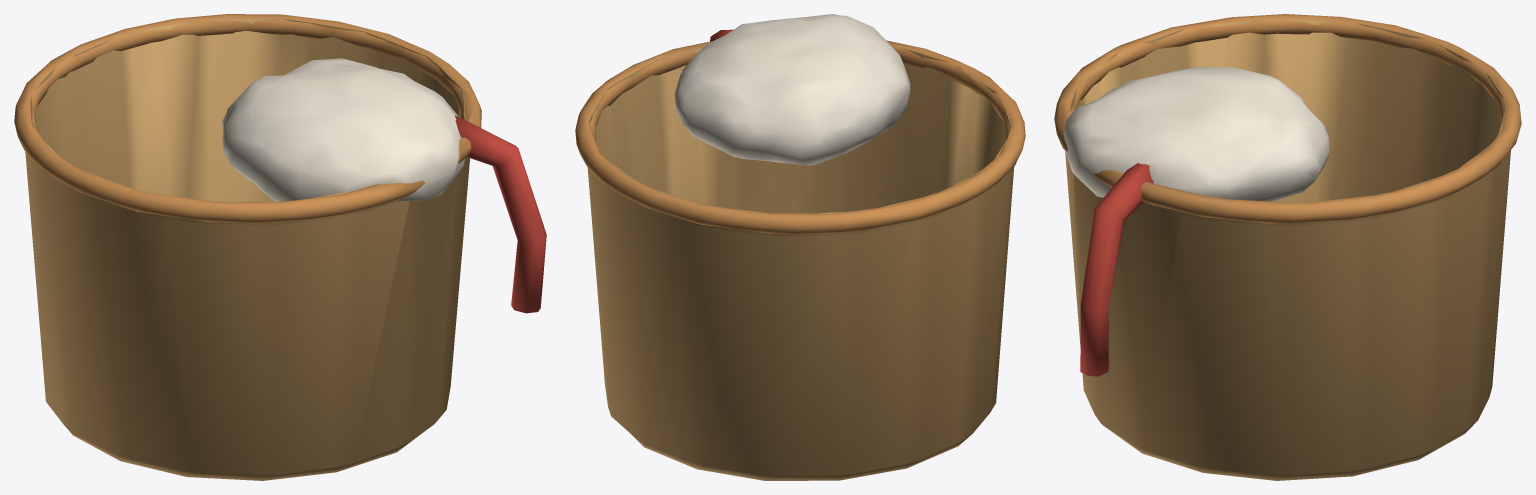
Rendered from den_laundry_basket_lod1.glb.
The picture shows the model from 3 angles, left to right: view 1: azimuth 30°, elevation 25°; view 2: azimuth 150°, elevation 25°; view 3: azimuth 270°, elevation 25°; orthographic projection. The views are drawn at different scales.
Parts seen in each view (by area): view 1: den_laundry_basket.001; view 2: den_laundry_basket.001; view 3: den_laundry_basket.001.
Part boxes in pixels (x1,y1,x2,y2): den_laundry_basket.001: (14, 14, 546, 480); den_laundry_basket.001: (575, 14, 1025, 480); den_laundry_basket.001: (1054, 14, 1521, 480).
Bounding box in the file's own units: 31.4 × 24.7 × 31.39.
